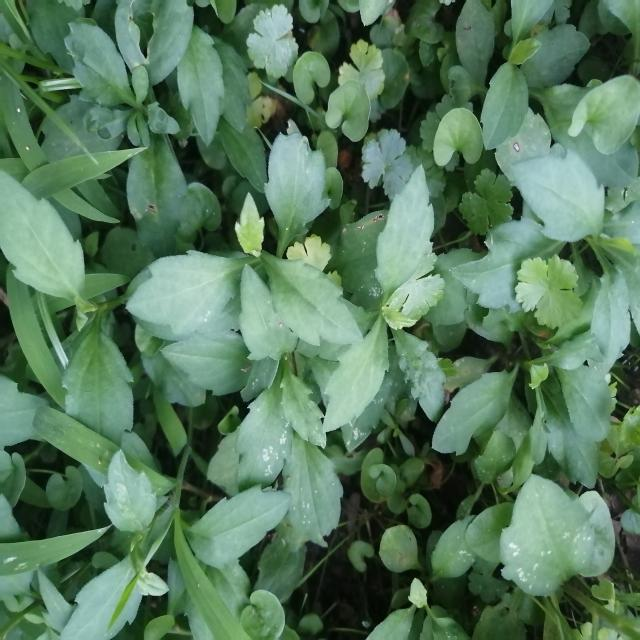Indian aster: (157, 152, 358, 553), (318, 169, 450, 446)
